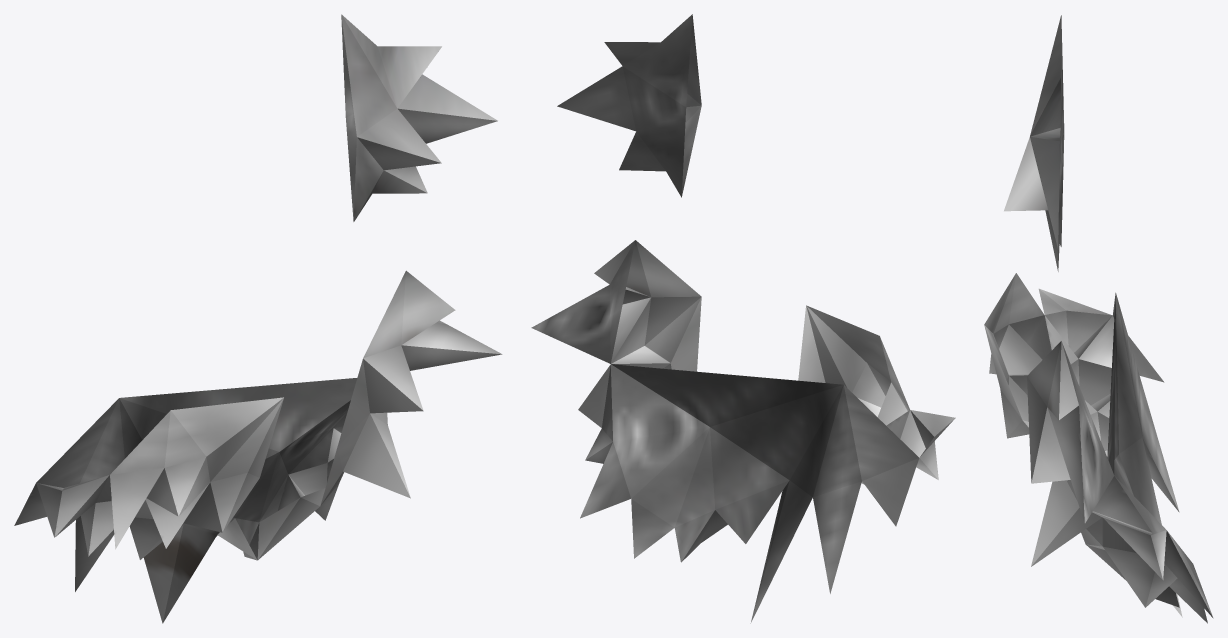
The picture shows the model from 3 angles, left to right: view 1: azimuth 30°, elevation 25°; view 2: azimuth 150°, elevation 25°; view 3: azimuth 270°, elevation 25°; orthographic projection. The views are drawn at different scales.
Parts seen in each view (by area): view 1: B_0119_2b_0; view 2: B_0119_2b_0; view 3: B_0119_2b_0.
Part boxes in pixels (x1=…): B_0119_2b_0: x1=14, y1=14, x2=502, y2=623; B_0119_2b_0: x1=531, y1=14, x2=955, y2=623; B_0119_2b_0: x1=984, y1=15, x2=1213, y2=623.
Size of the model in its own units: 14 by 18.04 by 5.62.
Materials: 1 (1 with a texture image).
